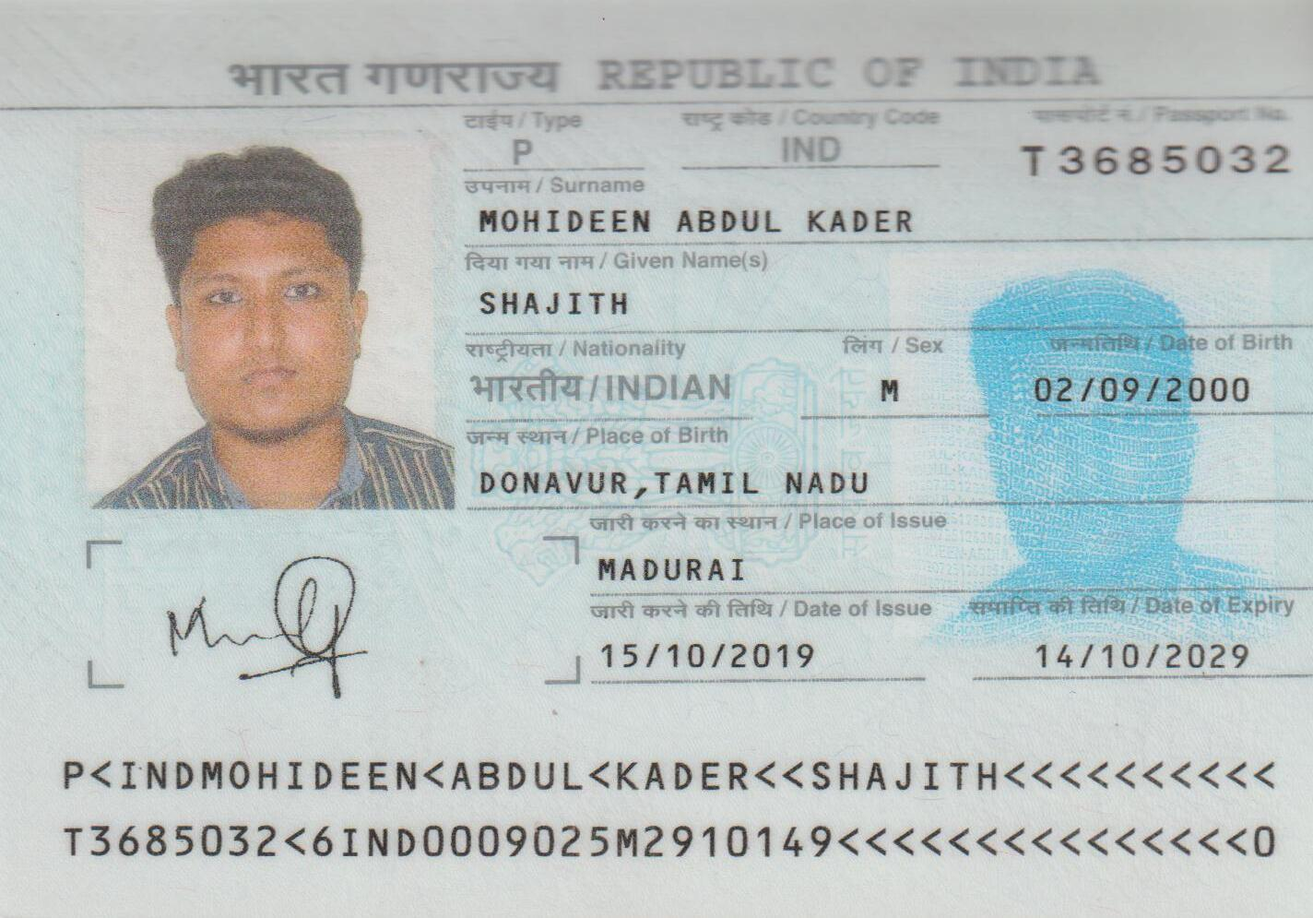DOB: (1009, 357, 1300, 421)
Surname: (458, 197, 930, 251)
country_code: (743, 117, 880, 168)
date_of_expiry: (1009, 622, 1301, 681)
date_of_issue: (582, 627, 845, 691)
details: (27, 725, 1280, 897)
name: (457, 271, 794, 331)
nationality: (455, 349, 747, 410)
passport_no: (999, 125, 1305, 189)
photo: (86, 117, 439, 508)
place_of_birth: (461, 450, 1056, 510)
place_of_issue: (571, 535, 801, 594)
sex: (838, 356, 944, 412)
sign: (80, 555, 531, 703)
type: (468, 123, 589, 171)
